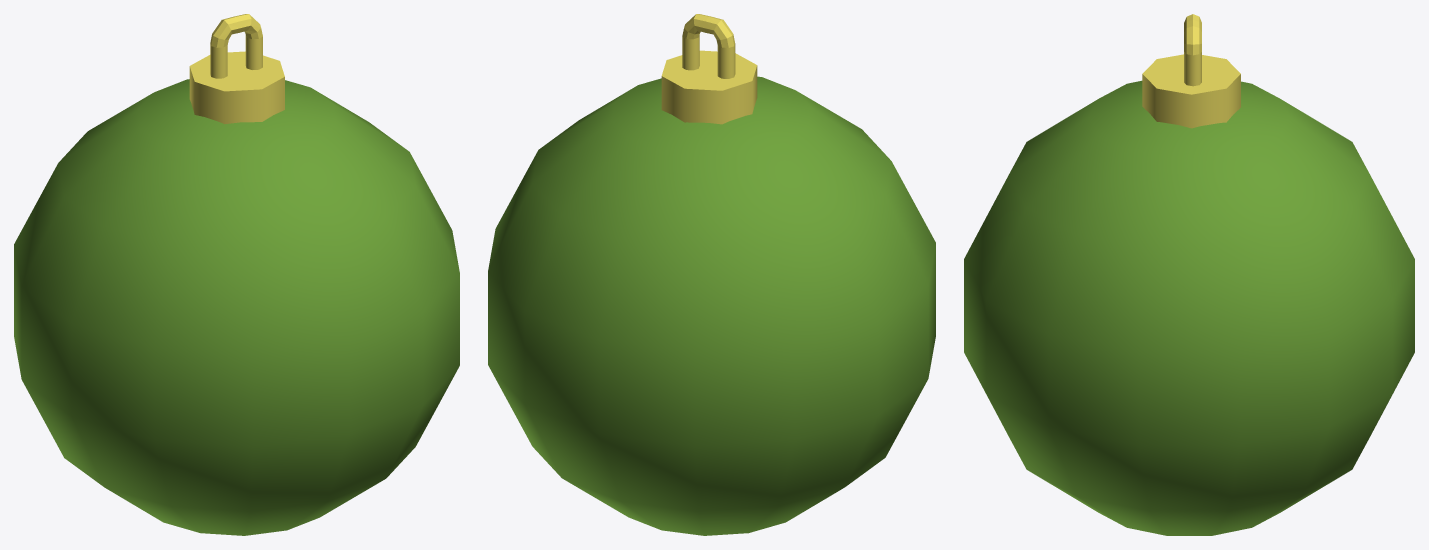
The model's file is M_Ball_02.FBX.
The picture shows the model from 3 angles, left to right: view 1: azimuth 30°, elevation 25°; view 2: azimuth 150°, elevation 25°; view 3: azimuth 270°, elevation 25°; orthographic projection.
Parts seen in each view (by area): view 1: Sphere003; view 2: Sphere003; view 3: Sphere003.
Part boxes in pixels (bbox=[...]): Sphere003: bbox=[14, 14, 459, 535]; Sphere003: bbox=[488, 14, 935, 535]; Sphere003: bbox=[964, 14, 1414, 535].
Size of the model in its own units: 21.83 by 27.2 by 22.39.
